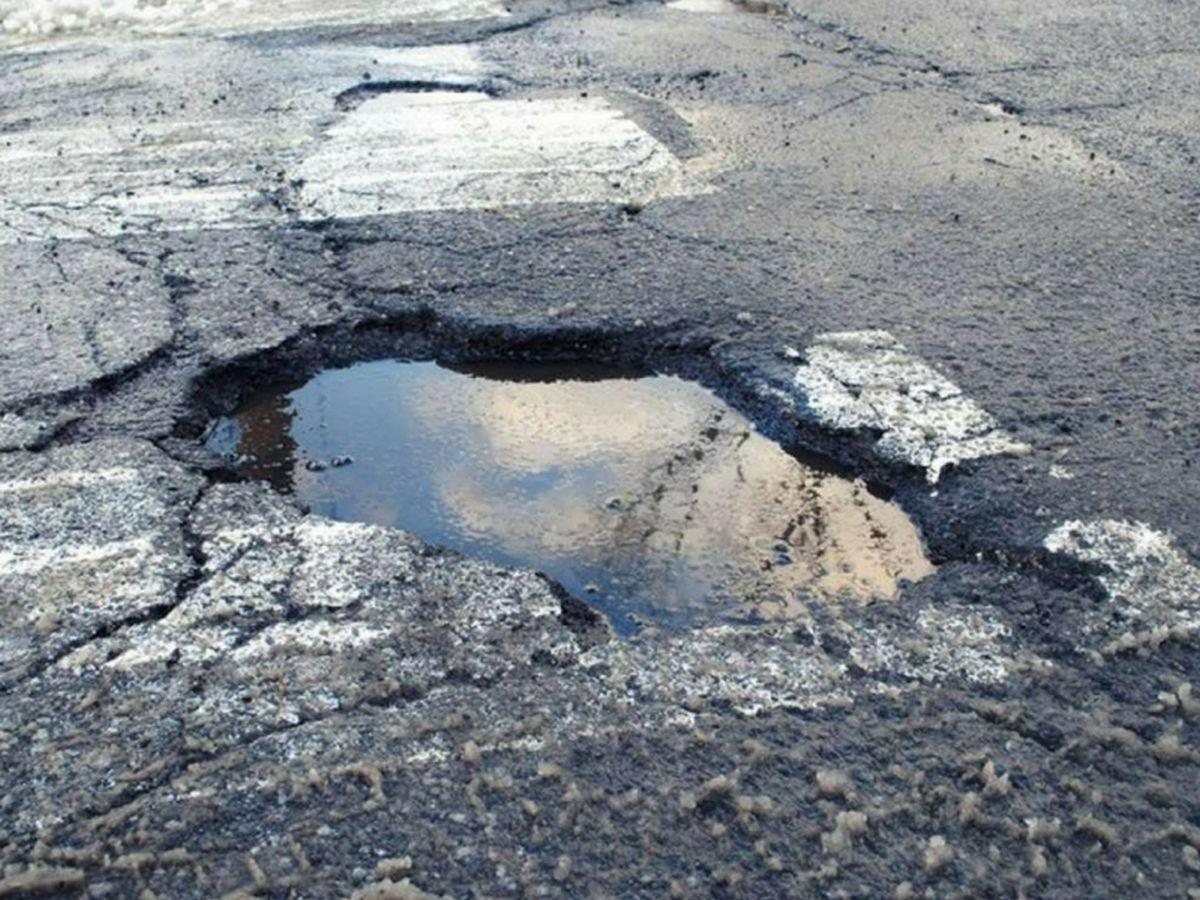Pothole: (108, 301, 1129, 746), (291, 31, 534, 140)
